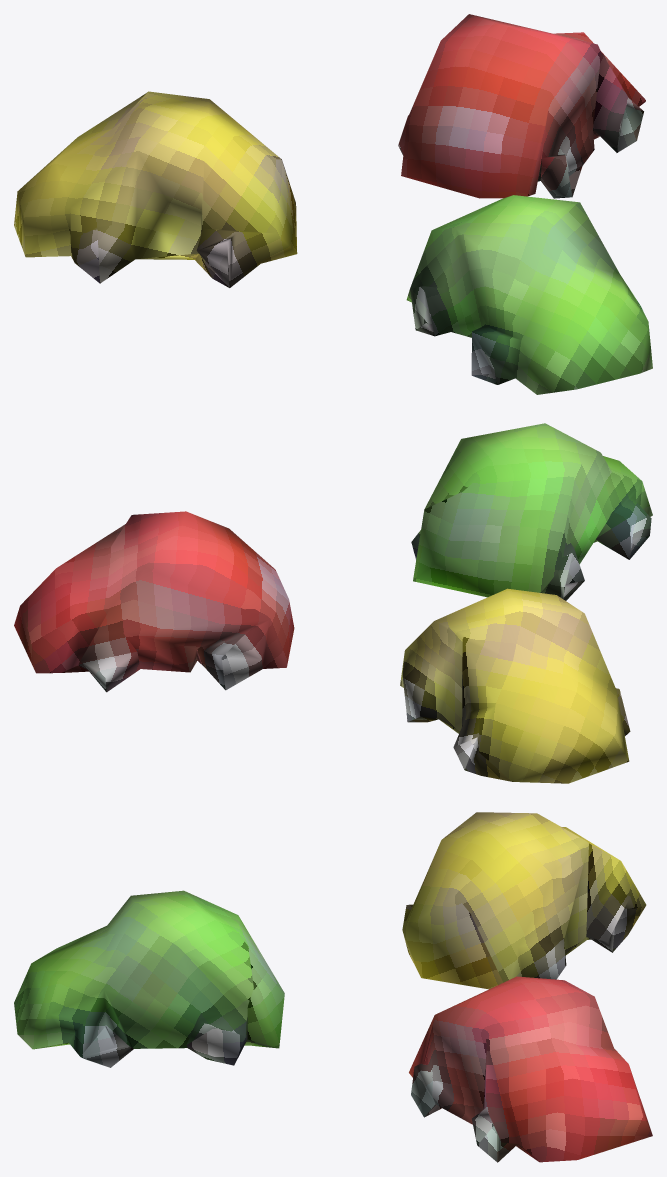
Rendered from CARSII-low.glb.
3 views of the same model, one above another, from view 1: azimuth 30°, elevation 25°; view 2: azimuth 150°, elevation 25°; view 3: azimuth 270°, elevation 25° (orthographic). The views are drawn at different scales.
Parts seen in each view (by area): view 1: CARSII; view 2: CARSII; view 3: CARSII.
Part boxes in pixels (x1=…): CARSII: x1=14, y1=14, x2=652, y2=394; CARSII: x1=14, y1=423, x2=652, y2=783; CARSII: x1=14, y1=812, x2=652, y2=1162.
Bounding box in the file's own units: 0.1225 × 0.0265 × 0.1151.
Materials: 1 (1 with a texture image).
